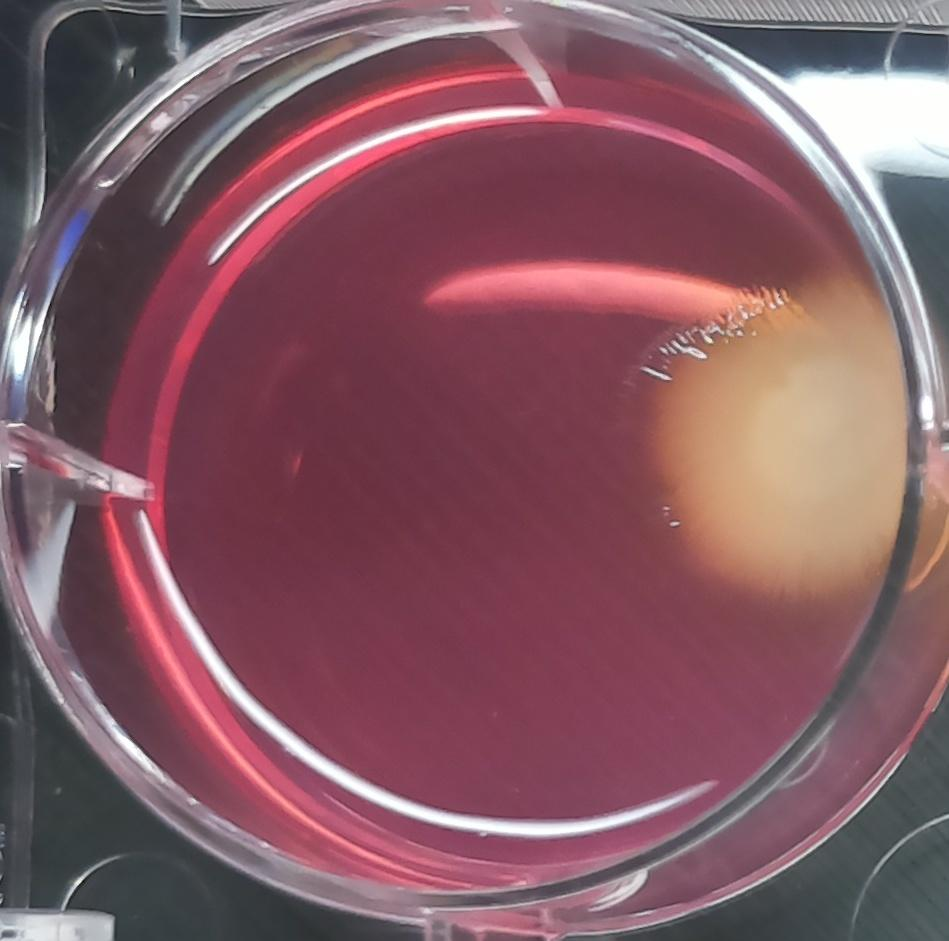vproteolyticus: (600, 224, 949, 609)
